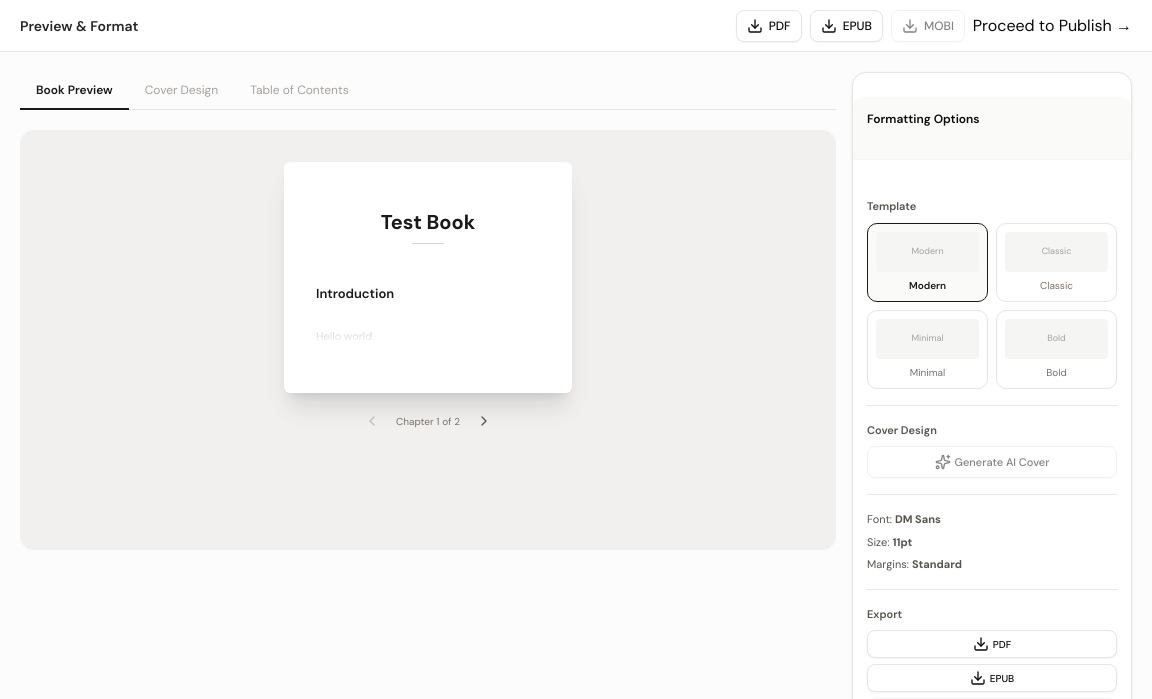
Test case: PreviewWrapper › navigates to chapter from TOC and switches to preview
This screenshot has width=1152, height=699.
Note: Go to TOC tab
Click the button "Table of Contents".
click(299, 91)  # box [234, 72, 365, 110]
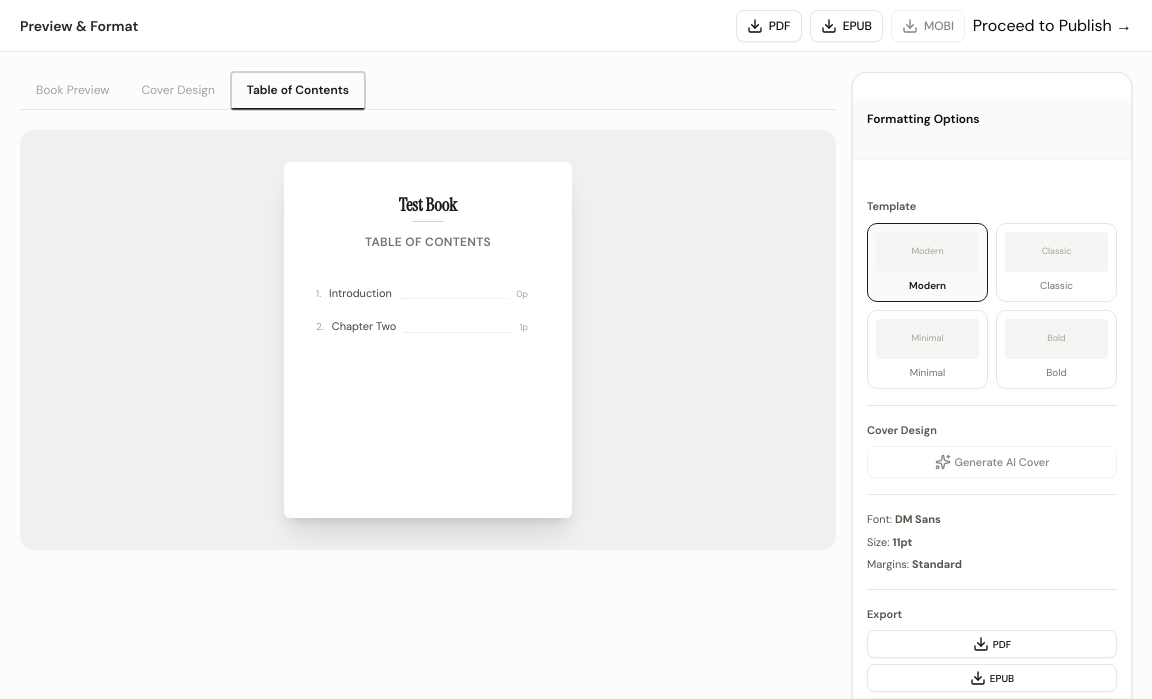
Note: Click on Chapter Two
Click the text "Chapter Two".
click(364, 327)  # box [332, 319, 396, 334]
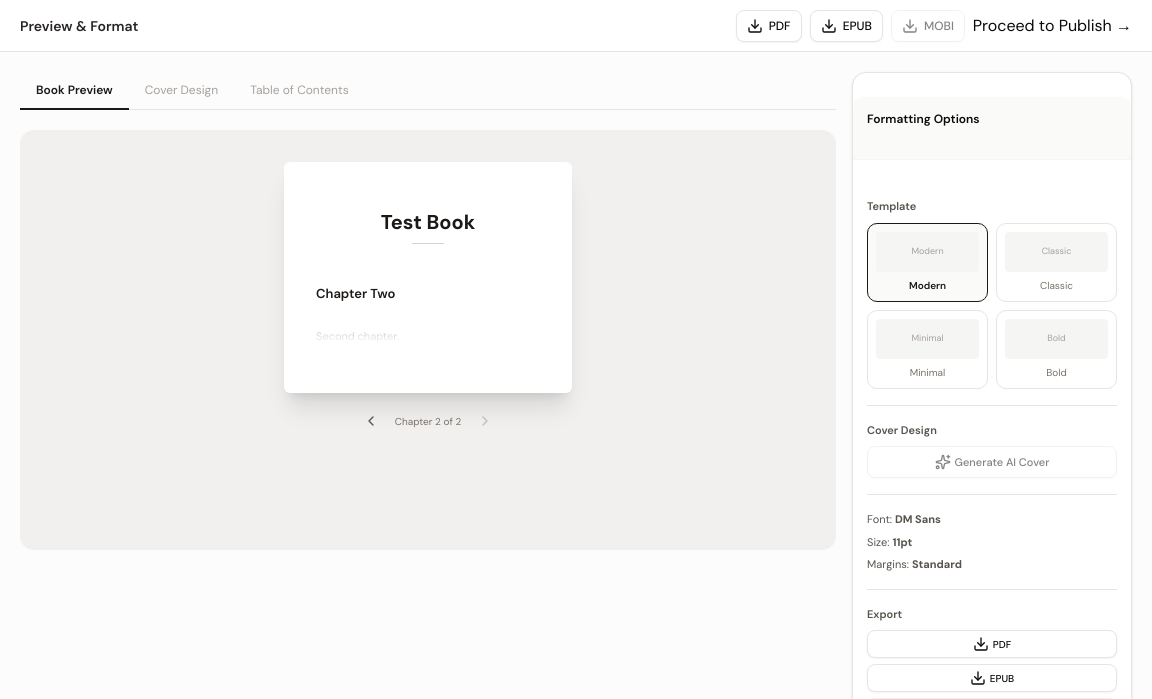
Expected: the text "Second chapter." is shown, [316, 328, 399, 342]
Expected: the text "Chapter 2 of 2" is shown, [395, 414, 461, 429]
